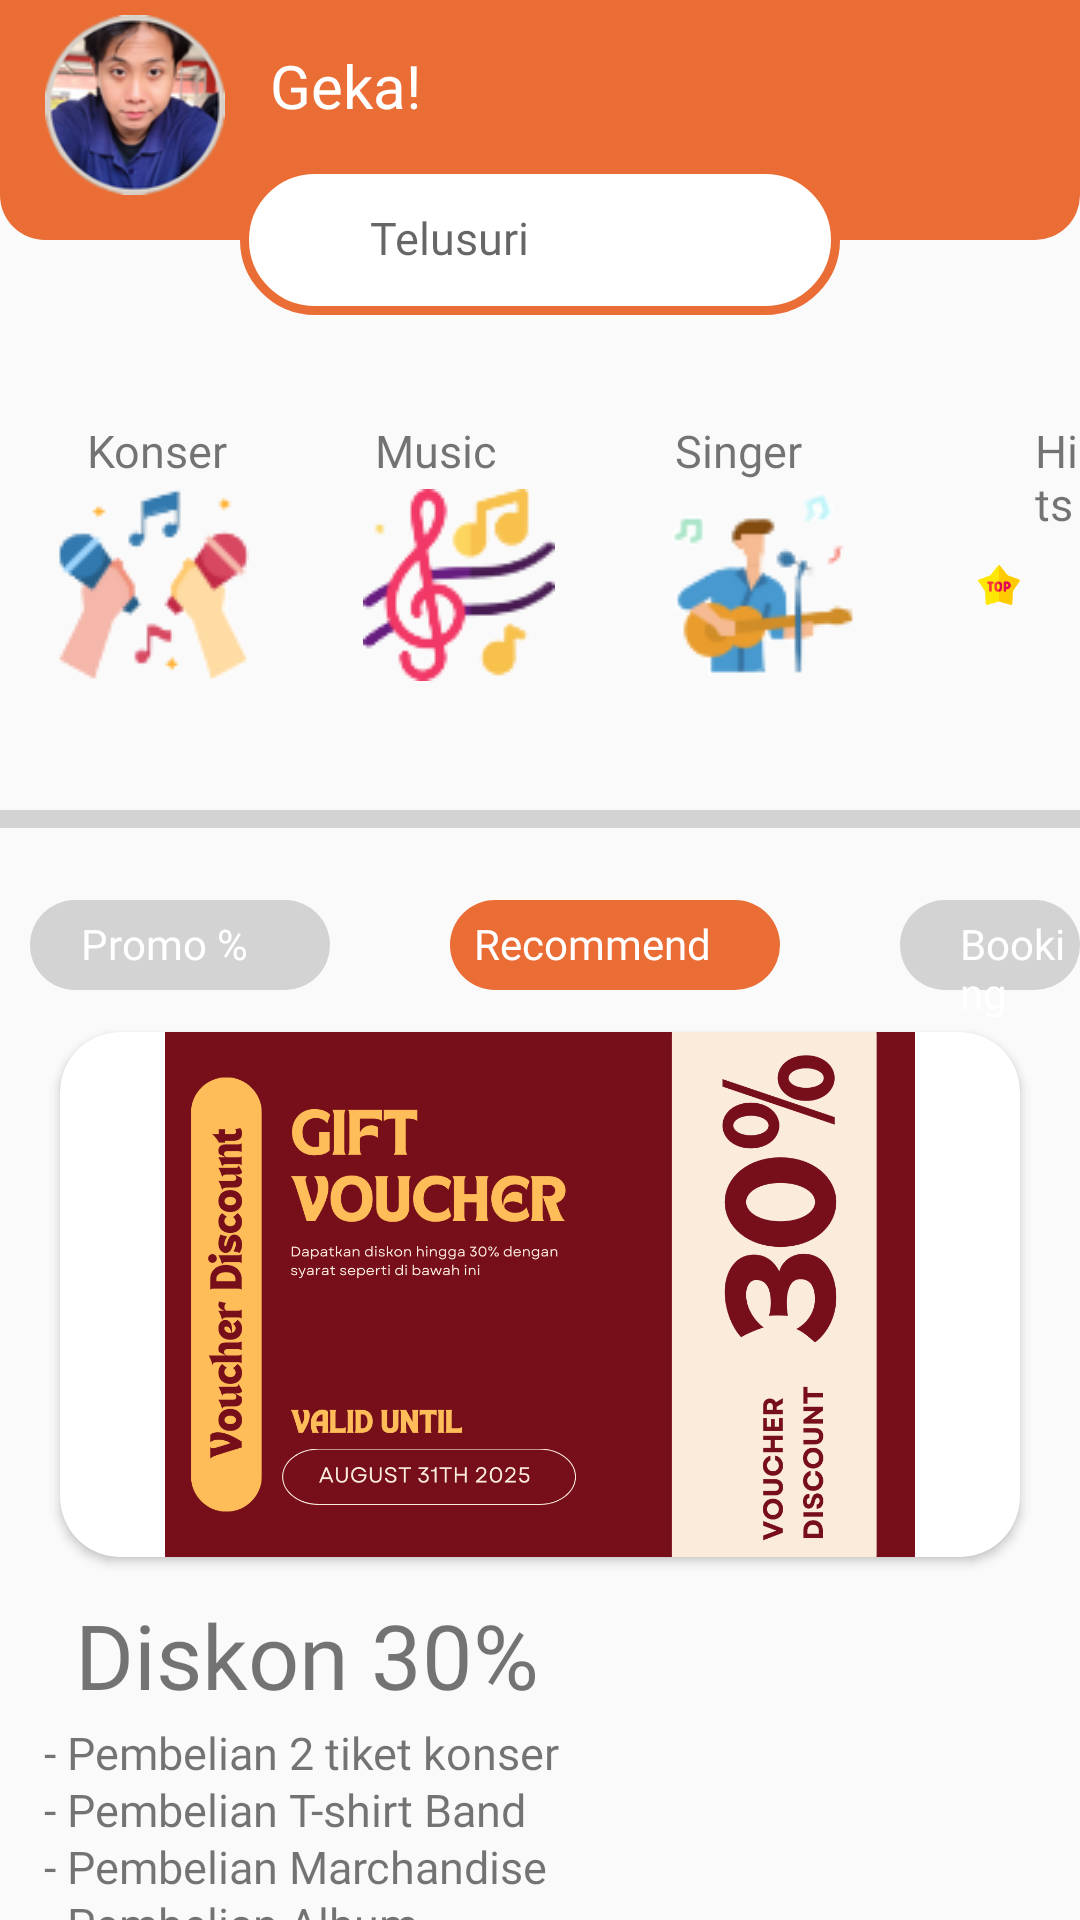

Where icons sit on this 1080*1920 app screen, as (x1, y1, x2, y2):
profile: (45, 15, 225, 195)
